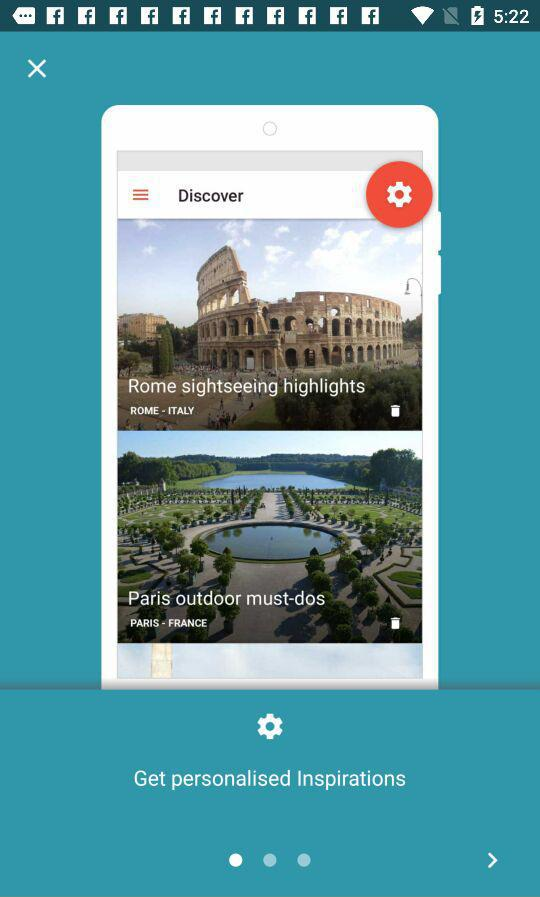Icon: (256, 713, 284, 740), (27, 59, 48, 80), (487, 851, 499, 870)
Image: (101, 105, 442, 690)
PageIndicator: (228, 852, 313, 869)
Text: (134, 769, 407, 792)
UpperTaskBar: (1, 1, 540, 33)
